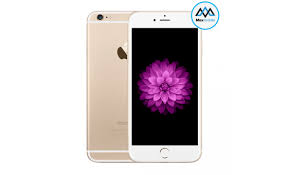iphone: (125, 7, 202, 166)
iphone6: (125, 7, 202, 166)
